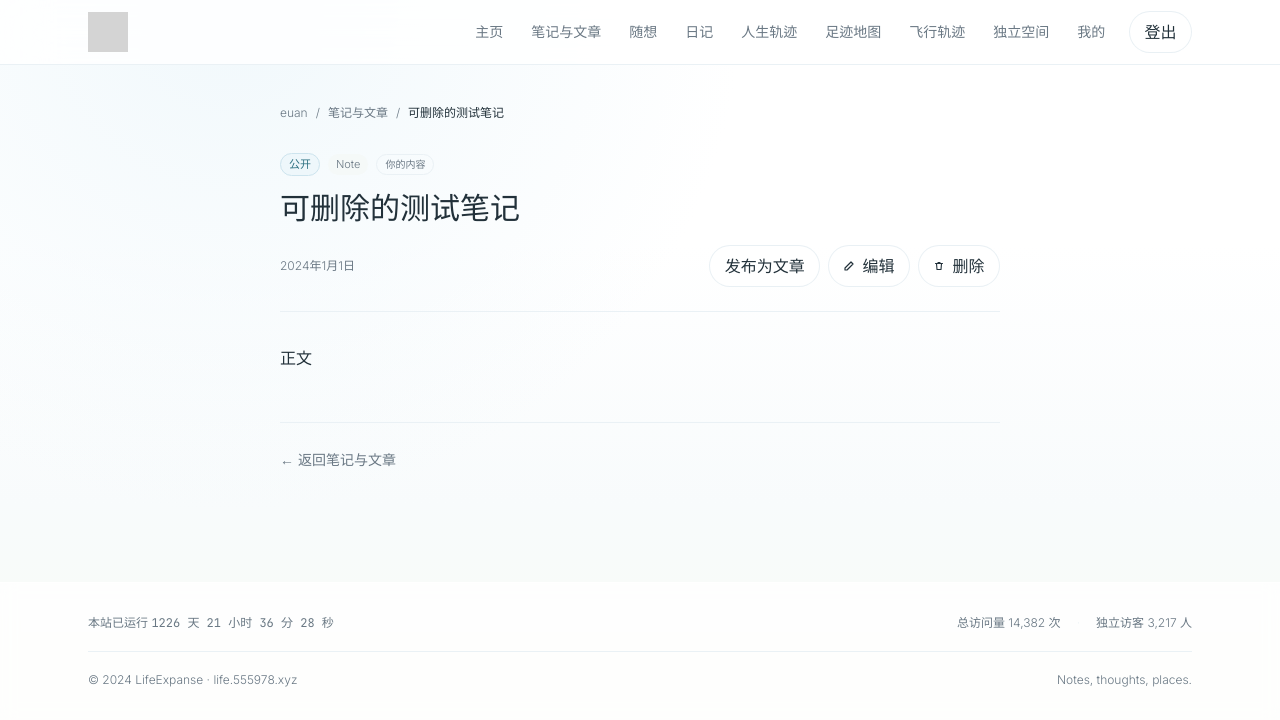
Scenario: delete a note › can be backed out of
Click the button "删除" at {"x": 959, "y": 266}, box [918,245,1000,287]
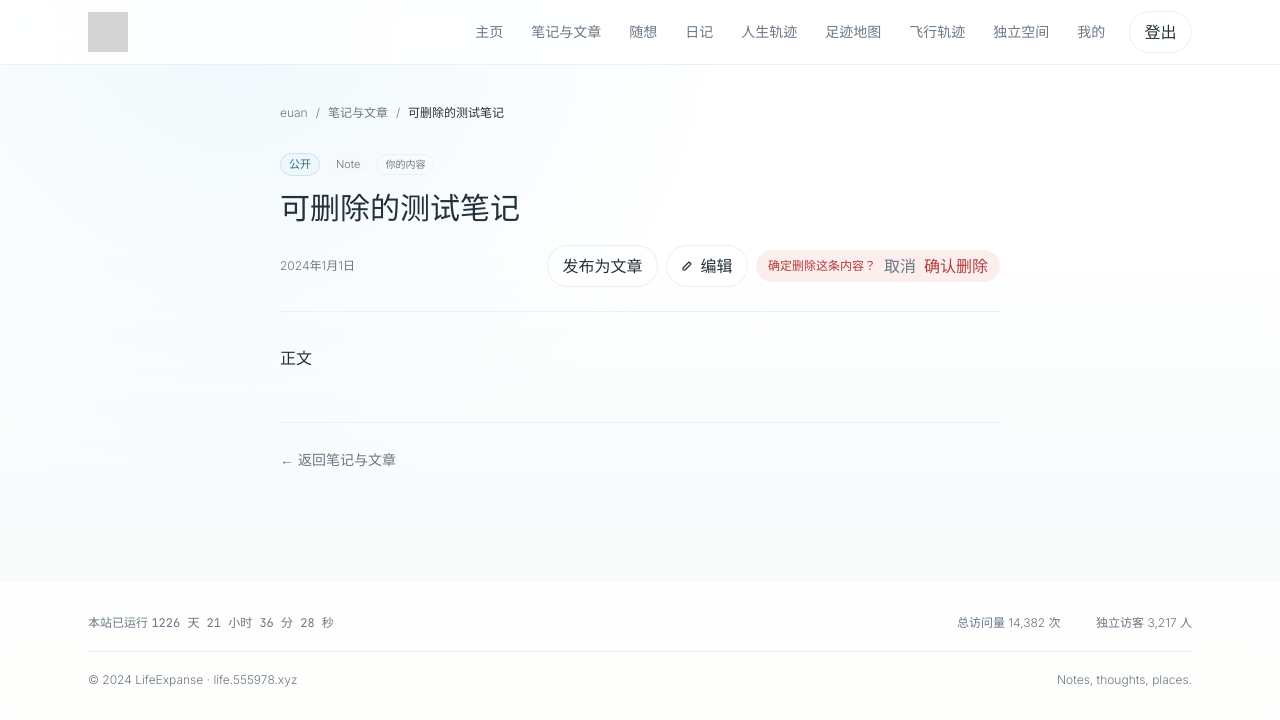
Click the button "取消" at {"x": 900, "y": 266}, box [884,254,916,278]
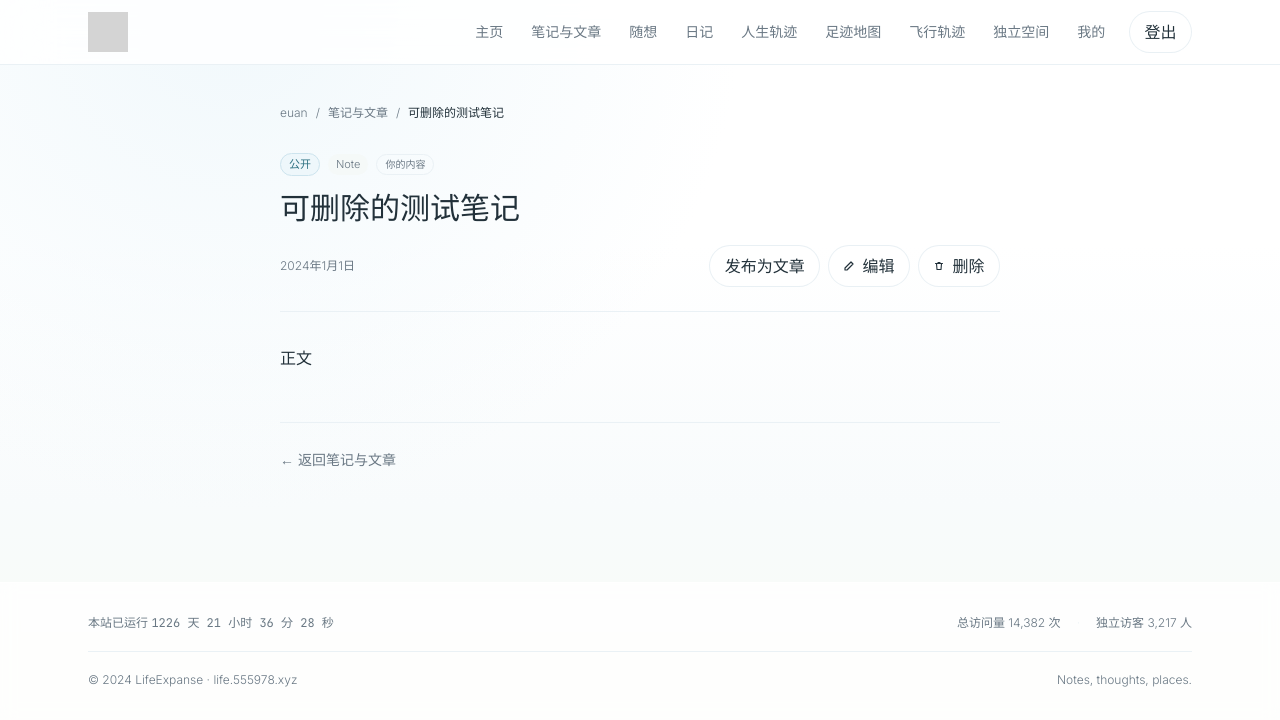
Expected: the text "确定删除这条内容？" is gone
